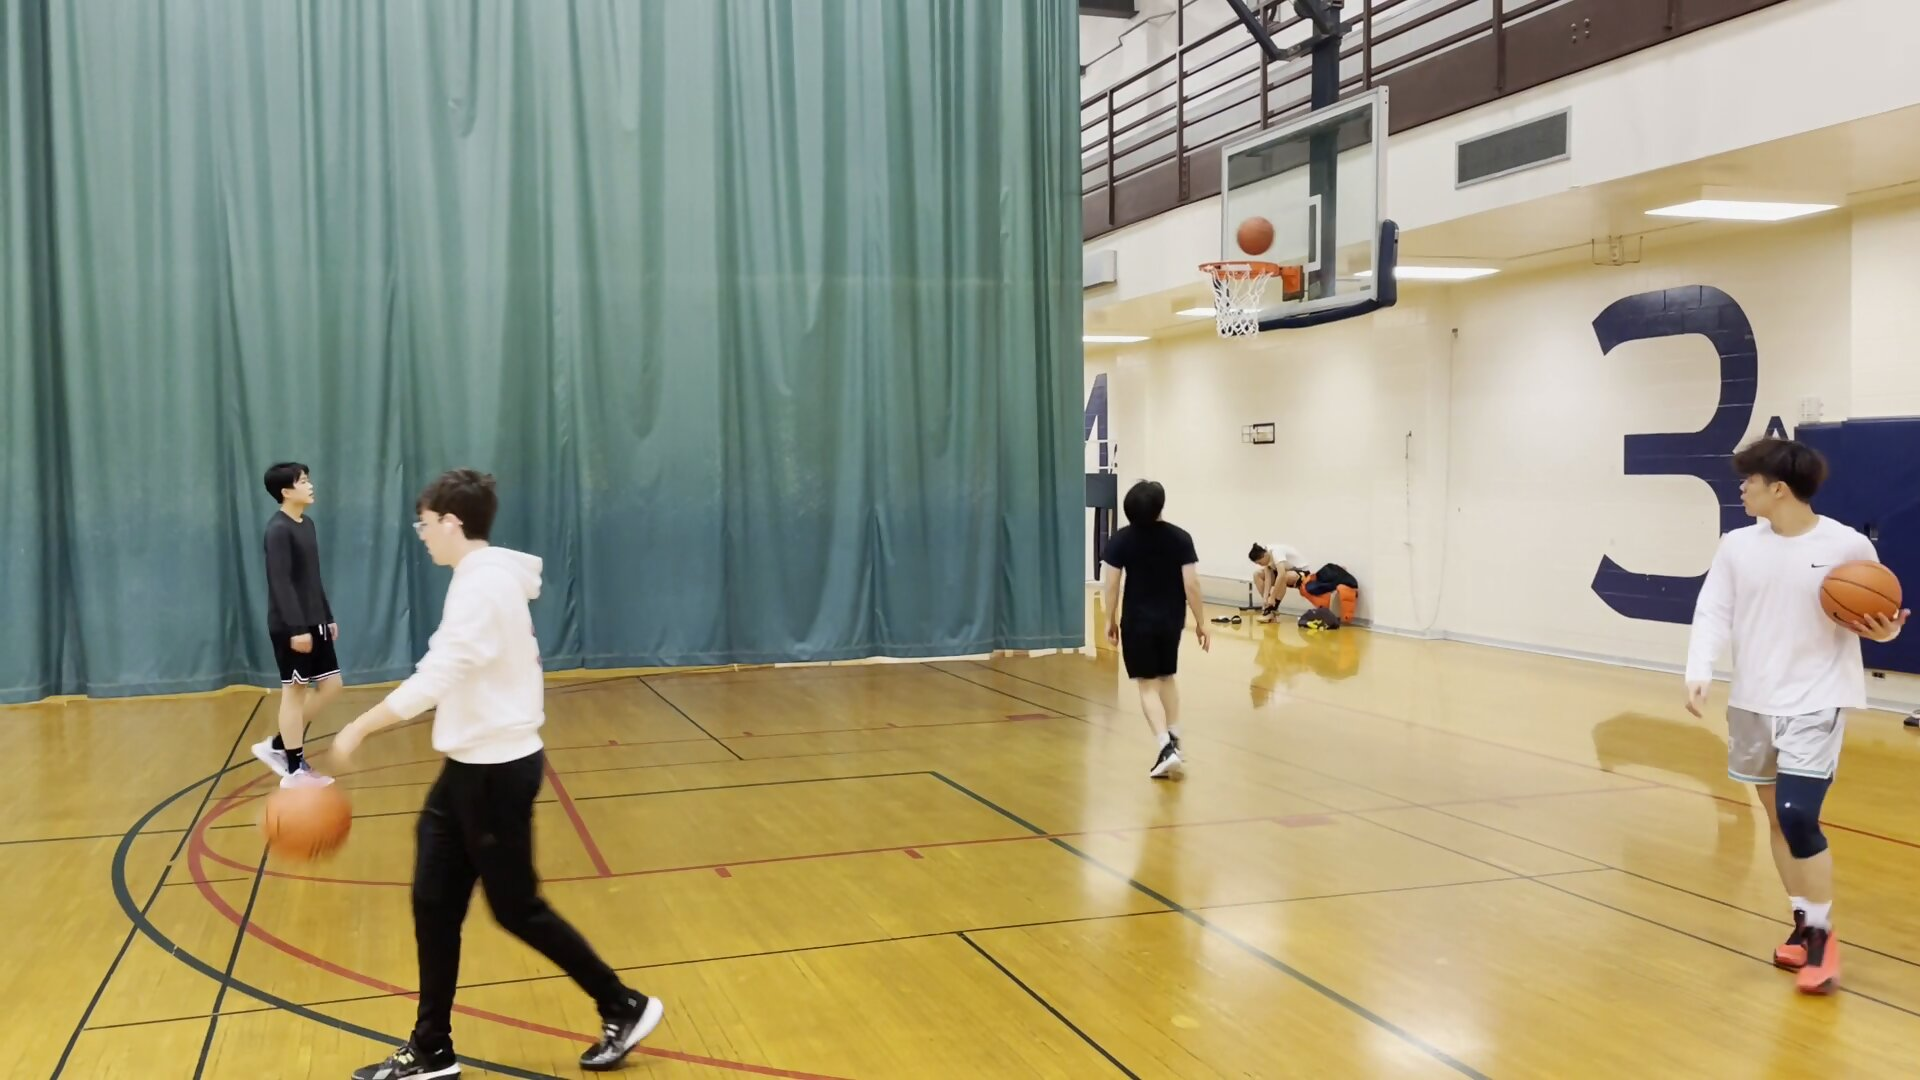ball: (262, 777, 358, 867), (1817, 558, 1902, 636), (1235, 211, 1277, 257)
net: (1208, 311, 1265, 344)
player: (330, 468, 654, 1072), (1686, 435, 1887, 1010), (1095, 476, 1207, 791), (258, 457, 350, 777), (1243, 543, 1305, 625)
rim: (1191, 255, 1282, 282)
